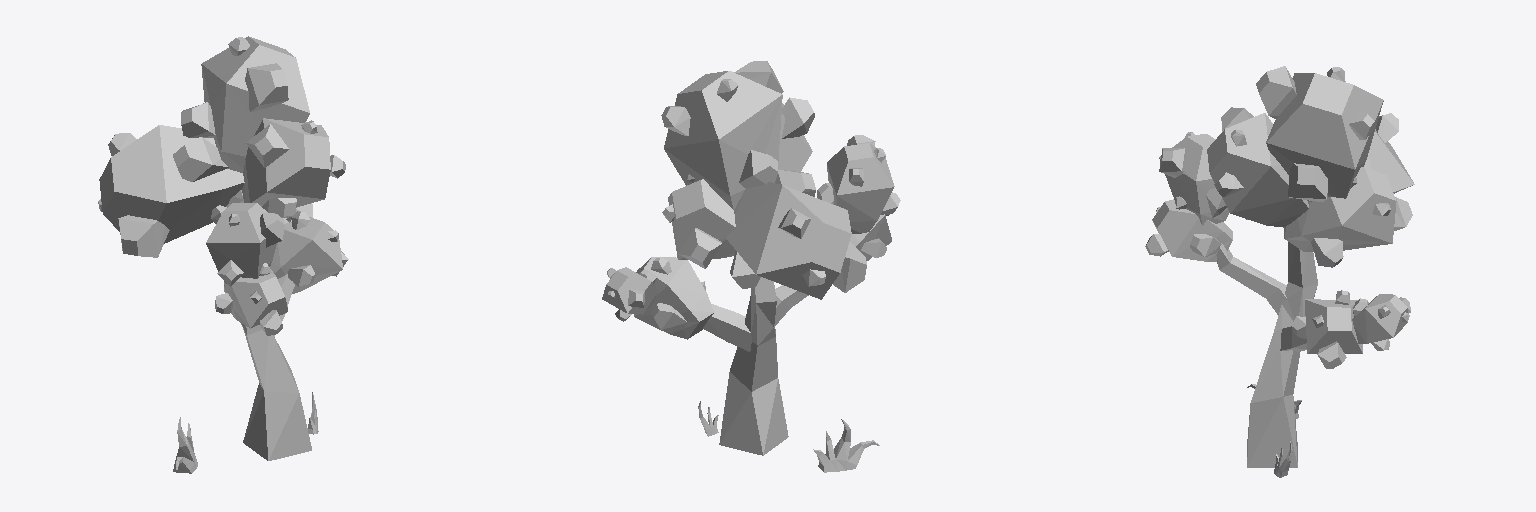
The model's file is tree_blender_file.obj.
3 renders of one model, left to right at view 1: azimuth 30°, elevation 25°; view 2: azimuth 150°, elevation 25°; view 3: azimuth 270°, elevation 25°, orthographic.
Parts seen in each view (by area): view 1: BranchesCBranchesuBranchesbBrancheseBranches.Branches0Branc.005, BranchesCBranchesuBranchesbBrancheseBranches.Branches0Branc.004, BranchesCBranchesuBranchesbBrancheseBranches.Branches0Branc.003, Trunk, BranchesCBranchesuBranchesbBrancheseBranches.Branches0Branches0, BranchesCBranchesuBranchesbBrancheseBranches.Branches0BrancBran, BranchesCBranchesuBranchesbBrancheseBranchesBranch, Plane; view 2: BranchesCBranchesuBranchesbBrancheseBranches.Branches0Branc.004, BranchesCBranchesuBranchesbBrancheseBranches.Branches0Branc.005, Trunk, BranchesCBranchesuBranchesbBrancheseBranches.Branches0Branches0, BranchesCBranchesuBranchesbBrancheseBranches.Branches0Branc.002, BranchesCBranchesuBranchesbBrancheseBranches.Branches0BrancBran, BranchesCBranchesuBranchesbBrancheseBranches.Branches0Branc.001, BranchesCBranchesuBranchesbBrancheseBranches.Branches0Branc.003, Plane, BranchesCBranchesuBranchesbBrancheseBranchesBranch; view 3: BranchesCBranchesuBranchesbBrancheseBranches.Branches0Branc.004, Trunk, BranchesCBranchesuBranchesbBrancheseBranches.Branches0Branc.003, BranchesCBranchesuBranchesbBrancheseBranches.Branches0Branc.002, BranchesCBranchesuBranchesbBrancheseBranches.Branches0Branches0, BranchesCBranchesuBranchesbBrancheseBranchesBranch, BranchesCBranchesuBranchesbBrancheseBranches.Branches0BrancBran, BranchesCBranchesuBranchesbBrancheseBranches.Branches0Branc.001, BranchesCBranchesuBranchesbBrancheseBranches.Branches0Branc.005.
Part boxes in pixels (bbox=[...]): BranchesCBranchesuBranchesbBrancheseBranches.Branches0Branc.005: bbox=[98, 125, 244, 257]; BranchesCBranchesuBranchesbBrancheseBranches.Branches0Branc.004: bbox=[181, 36, 309, 172]; BranchesCBranchesuBranchesbBrancheseBranches.Branches0Branc.003: bbox=[242, 118, 345, 217]; Trunk: bbox=[224, 274, 311, 460]; BranchesCBranchesuBranchesbBrancheseBranches.Branches0Branches0: bbox=[206, 203, 284, 286]; BranchesCBranchesuBranchesbBrancheseBranches.Branches0BrancBran: bbox=[270, 211, 348, 293]; BranchesCBranchesuBranchesbBrancheseBranchesBranch: bbox=[215, 263, 287, 335]; Plane: bbox=[173, 417, 197, 473]; BranchesCBranchesuBranchesbBrancheseBranches.Branches0Branc.004: bbox=[661, 61, 783, 209]; BranchesCBranchesuBranchesbBrancheseBranches.Branches0Branc.005: bbox=[726, 170, 866, 299]; Trunk: bbox=[703, 277, 808, 455]; BranchesCBranchesuBranchesbBrancheseBranches.Branches0Branches0: bbox=[817, 135, 900, 233]; BranchesCBranchesuBranchesbBrancheseBranches.Branches0Branc.002: bbox=[662, 174, 735, 268]; BranchesCBranchesuBranchesbBrancheseBranches.Branches0BrancBran: bbox=[634, 257, 713, 339]; BranchesCBranchesuBranchesbBrancheseBranches.Branches0Branc.001: bbox=[602, 267, 657, 321]; BranchesCBranchesuBranchesbBrancheseBranches.Branches0Branc.003: bbox=[778, 97, 814, 171]; Plane: bbox=[813, 419, 879, 472]; BranchesCBranchesuBranchesbBrancheseBranchesBranch: bbox=[850, 214, 891, 260]; BranchesCBranchesuBranchesbBrancheseBranches.Branches0Branc.004: bbox=[1256, 66, 1383, 201]; Trunk: bbox=[1216, 242, 1317, 467]; BranchesCBranchesuBranchesbBrancheseBranches.Branches0Branc.003: bbox=[1207, 107, 1308, 226]; BranchesCBranchesuBranchesbBrancheseBranches.Branches0Branc.002: bbox=[1283, 167, 1412, 267]; BranchesCBranchesuBranchesbBrancheseBranches.Branches0Branches0: bbox=[1159, 132, 1229, 225]; BranchesCBranchesuBranchesbBrancheseBranchesBranch: bbox=[1145, 196, 1232, 261]; BranchesCBranchesuBranchesbBrancheseBranches.Branches0BrancBran: bbox=[1292, 290, 1362, 368]; BranchesCBranchesuBranchesbBrancheseBranches.Branches0Branc.001: bbox=[1352, 294, 1410, 350]; BranchesCBranchesuBranchesbBrancheseBranches.Branches0Branc.005: bbox=[1364, 113, 1414, 193].
Size of the model in its own units: 10.59 by 16.8 by 10.6.